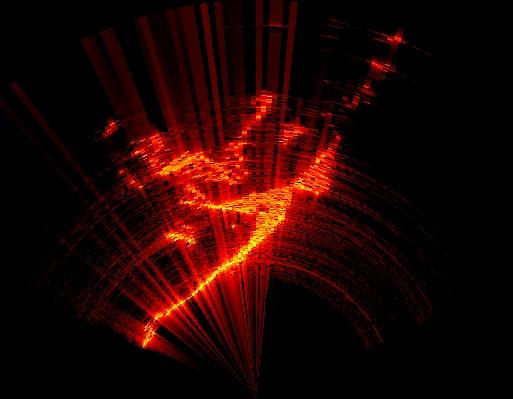shipwreck: (143, 136, 339, 346), (149, 93, 275, 181), (280, 123, 305, 147), (166, 224, 195, 242)
